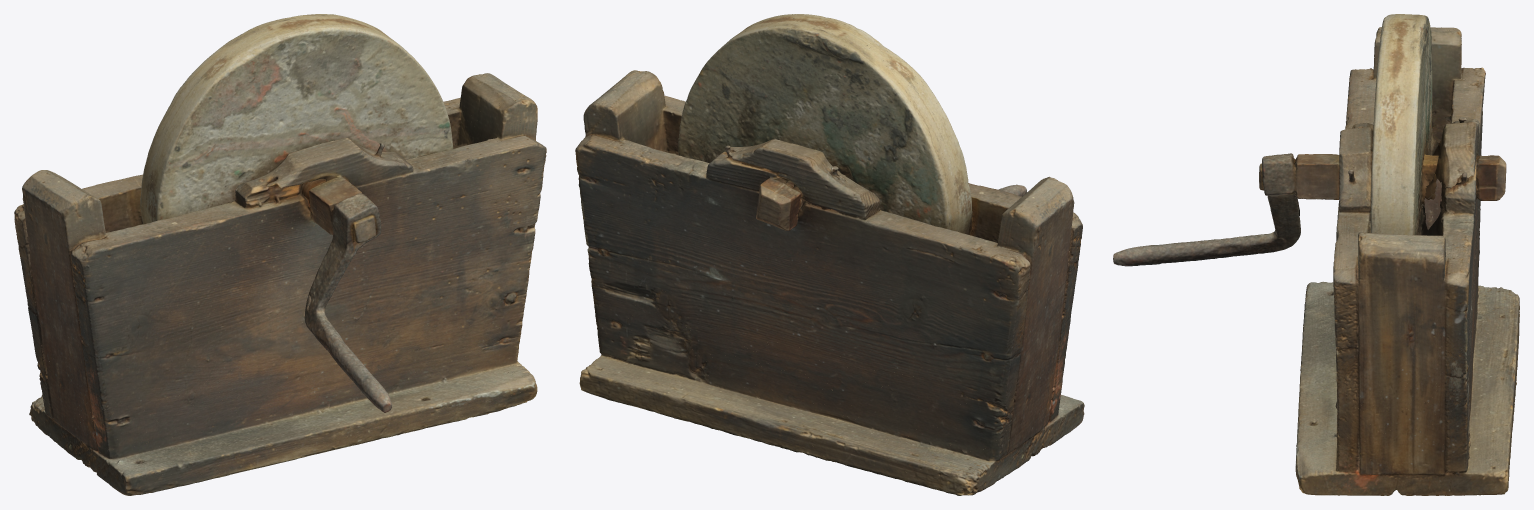
3 views of the same model, side by side, from view 1: azimuth 30°, elevation 25°; view 2: azimuth 150°, elevation 25°; view 3: azimuth 270°, elevation 25° (orthographic). The views are drawn at different scales.
Visible parts, largest first — view 1: Object_7, Object_4, Object_6, Object_3, Object_8, Object_5, Object_9, Object_2; view 2: Object_5, Object_3, Object_2, Object_7, Object_9, Object_8, Object_6, Object_4; view 3: Object_6, Object_5, Object_2, Object_8, Object_9, Object_3, Object_4, Object_7.
Boxes of the visible parts, x1,y1,x2,y2 form: Object_7: (28,24,403,331); Object_4: (32,285,522,495); Object_6: (37,73,546,428); Object_3: (14,171,392,456); Object_8: (25,14,442,479); Object_5: (174,16,537,483); Object_9: (34,14,533,299); Object_2: (27,187,537,458); Object_5: (575,15,839,457); Object_3: (814,179,1082,495); Object_2: (579,191,1067,425); Object_7: (813,36,1021,396); Object_9: (654,14,1026,333); Object_8: (693,14,1080,420); Object_6: (576,70,1077,343); Object_4: (692,291,1084,482); Object_6: (1296,29,1473,483); Object_5: (1305,56,1516,444); Object_2: (1295,242,1511,495); Object_8: (1246,21,1506,429); Object_9: (1336,14,1505,461); Object_3: (1113,27,1519,364); Object_4: (1299,160,1519,471); Object_7: (1281,14,1480,302).
Size of the model in its own units: 6.04 by 4.78 by 4.63.
Materials: 1 (1 with a texture image).
